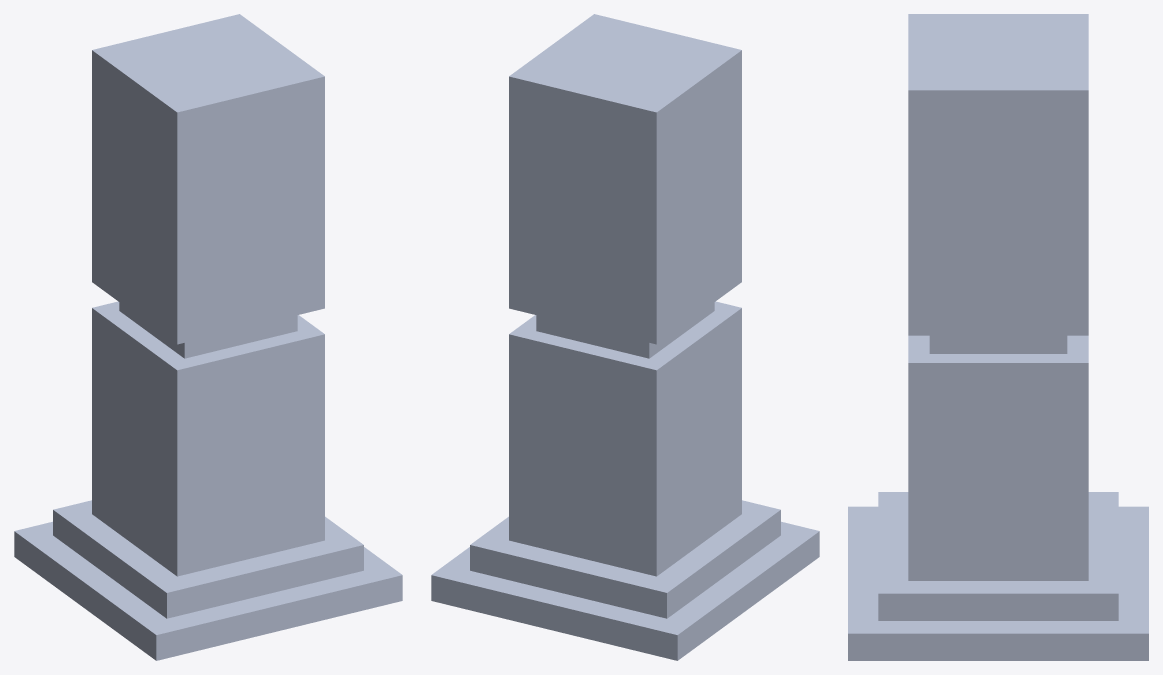
Rendered from tiles01.glb.
The picture shows the model from 3 angles, left to right: view 1: azimuth 30°, elevation 25°; view 2: azimuth 150°, elevation 25°; view 3: azimuth 270°, elevation 25°; orthographic projection. The views are drawn at different scales.
Parts seen in each view (by area): view 1: Cube; view 2: Cube; view 3: Cube.
Part boxes in pixels (x1=…): Cube: x1=14, y1=14, x2=402, y2=660; Cube: x1=431, y1=14, x2=819, y2=660; Cube: x1=848, y1=14, x2=1148, y2=660.
Size of the model in its own units: 1 by 2 by 1.
